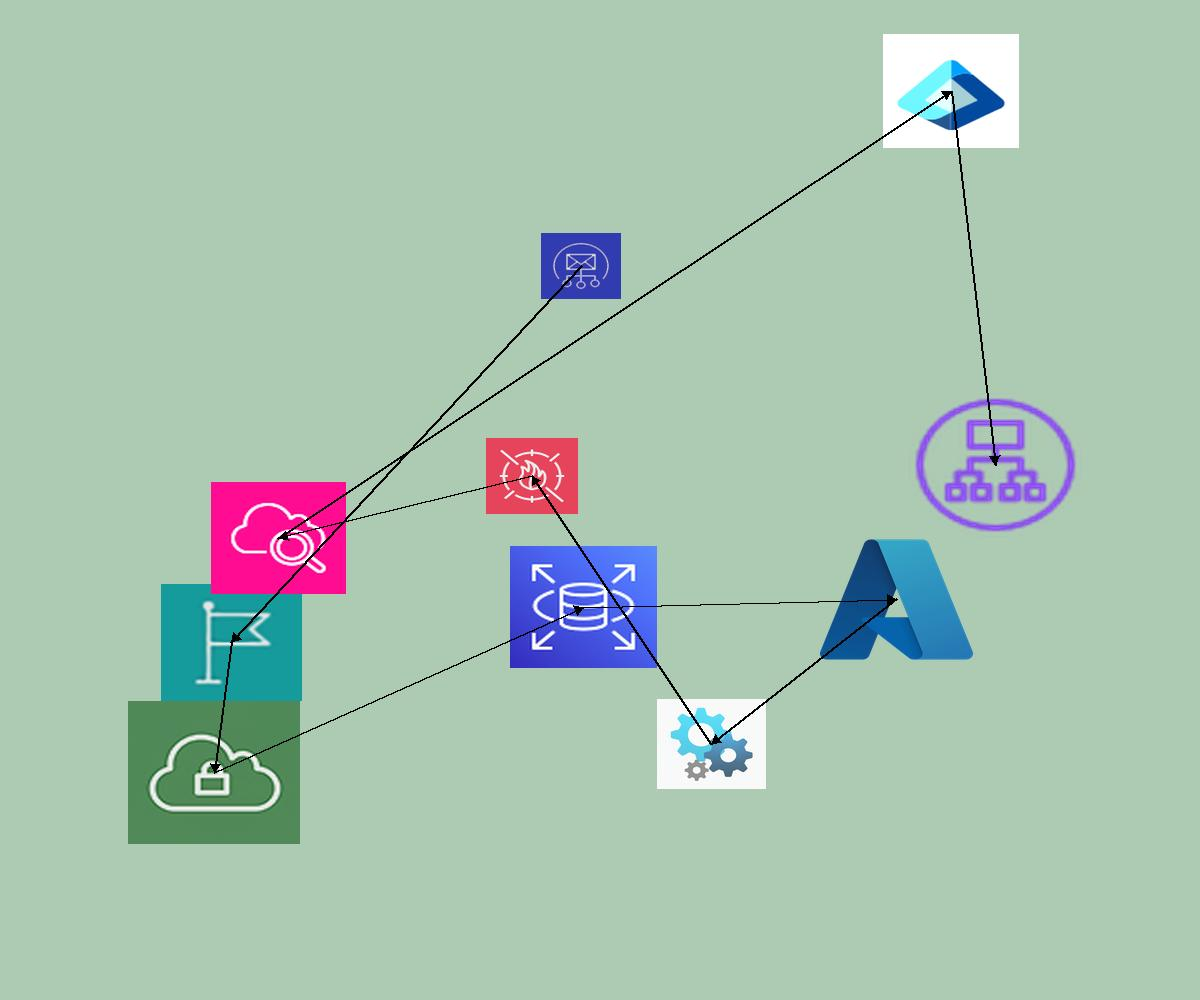AWS-CloudWatch: (211, 482, 346, 594)
AWS-Private_vpc: (128, 701, 300, 844)
AWS-RDS: (510, 546, 657, 668)
AWS-Region: (161, 584, 302, 701)
AWS-Res_Elastic-Load-Balancing_Application-Load-Balancer: (909, 393, 1082, 537)
AWS-Simple-Email-Service: (541, 233, 621, 299)
AWS-WAF: (486, 438, 578, 514)
Azure_api: (657, 699, 766, 789)
Azure_microsoft_entra: (883, 34, 1019, 148)
Azure_services: (813, 530, 980, 669)
